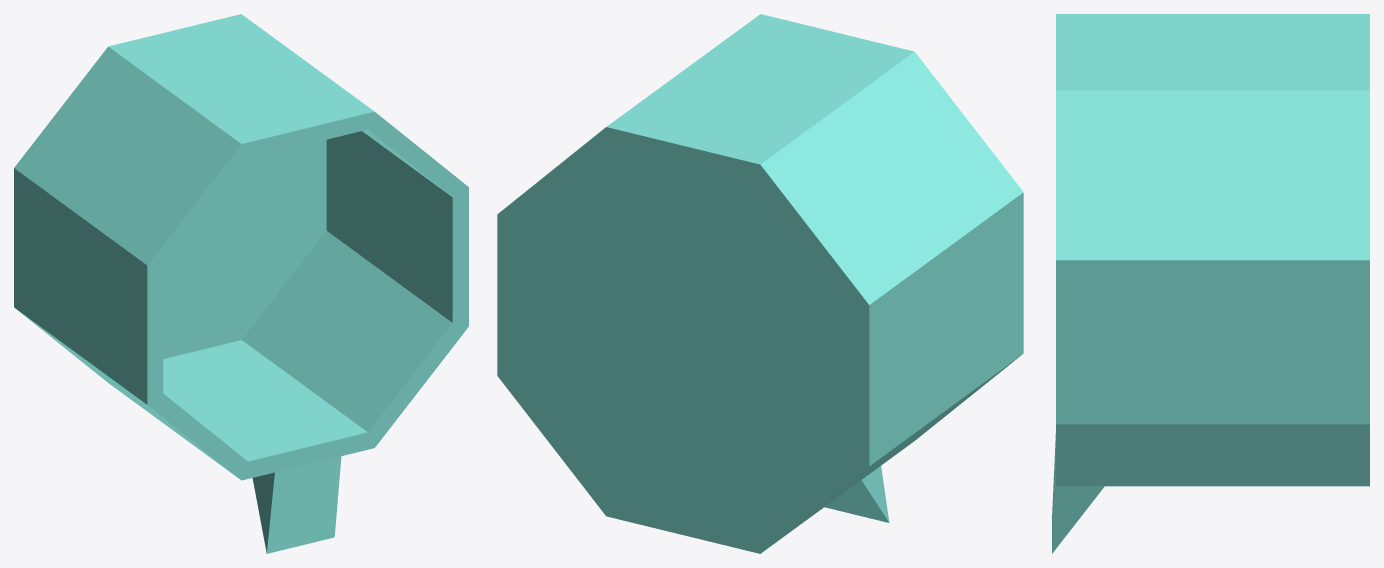
The model's file is FoodProcessorContainerCollider.obj.
3 renders of one model, left to right at view 1: azimuth 30°, elevation 25°; view 2: azimuth 150°, elevation 25°; view 3: azimuth 270°, elevation 25°, orthographic. The views are drawn at different scales.
Parts seen in each view (by area): view 1: Container.004, Container.010, Container.002, Container.003, Container.005, Container.009, Container.006, Container.001, Container.007, Container.008; view 2: Container.002, Container.004, Container.003, Container.005, Container.001, Container.007; view 3: Container.008, Container.009, Container.005, Container.010, Container.001.
Part boxes in pixels (x1,y1,x2,y2): Container.004: [14, 46, 247, 267]; Container.010: [242, 230, 468, 447]; Container.002: [163, 139, 326, 358]; Container.003: [14, 168, 163, 404]; Container.005: [108, 14, 374, 158]; Container.009: [326, 131, 468, 326]; Container.006: [163, 340, 374, 480]; Container.001: [252, 456, 341, 553]; Container.007: [18, 310, 247, 480]; Container.008: [362, 112, 468, 197]; Container.002: [497, 127, 869, 553]; Container.004: [760, 51, 1023, 304]; Container.003: [869, 192, 1023, 466]; Container.005: [606, 14, 914, 164]; Container.001: [824, 466, 889, 522]; Container.007: [763, 356, 1019, 551]; Container.008: [1056, 90, 1369, 260]; Container.009: [1056, 260, 1369, 424]; Container.005: [1056, 14, 1369, 90]; Container.010: [1056, 424, 1369, 486]; Container.001: [1052, 434, 1104, 553].
Bounding box in the file's own units: 0.1714 × 0.2112 × 0.1247.
